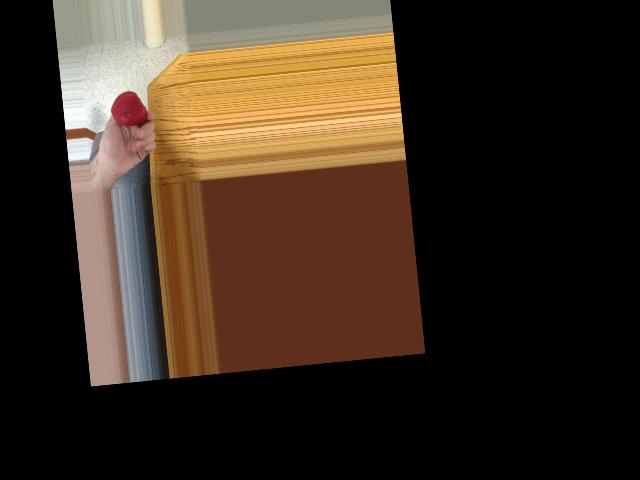apple: (108, 88, 148, 128)
